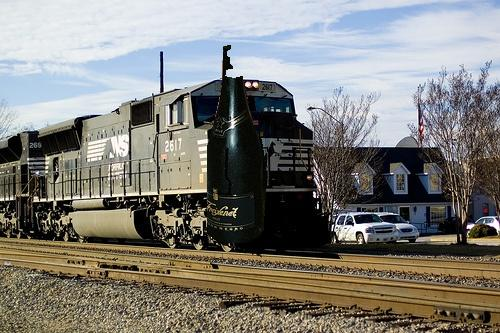tampered: (208, 46, 266, 243)
